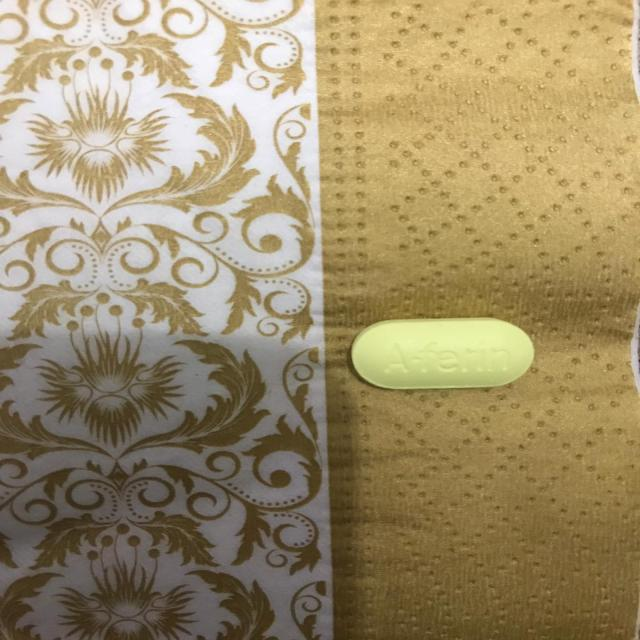pills: (331, 318, 556, 394)
